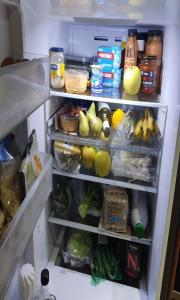Brocoli: (74, 179, 102, 221)
Leche: (130, 189, 150, 240)
Lechuga/Endivia: (62, 224, 90, 270)
Limón: (112, 110, 126, 134)
Manzana: (122, 59, 142, 97), (94, 146, 110, 176), (80, 144, 98, 170)
Plátano: (148, 106, 158, 138), (133, 114, 145, 140), (143, 107, 150, 145)
Queso: (0, 131, 23, 238), (18, 127, 44, 199)
Yogur: (90, 64, 103, 92)
